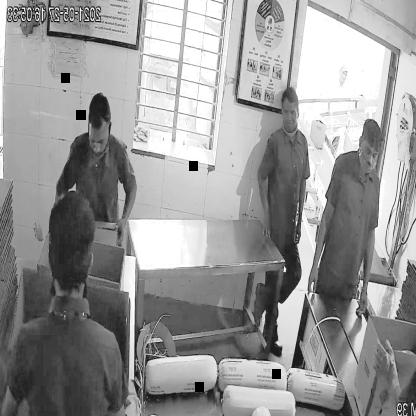no_goggles: (358, 142, 382, 166), (86, 127, 110, 151), (280, 102, 301, 124)
